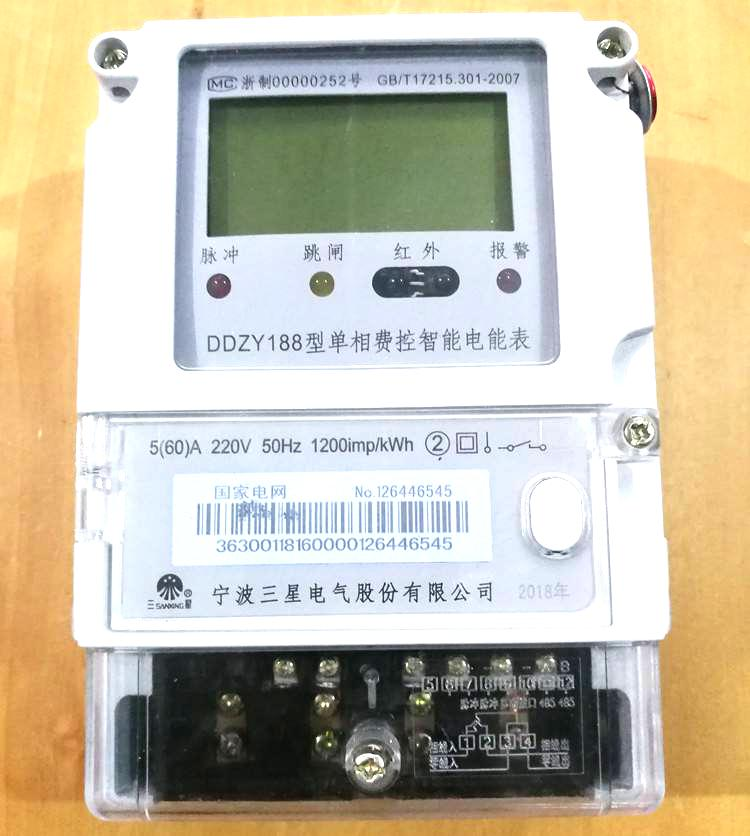digital: (77, 11, 670, 646)
